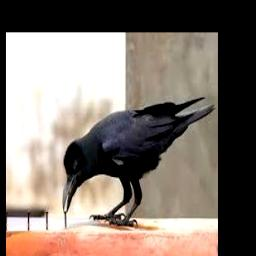Crow: (63, 95, 216, 227)
